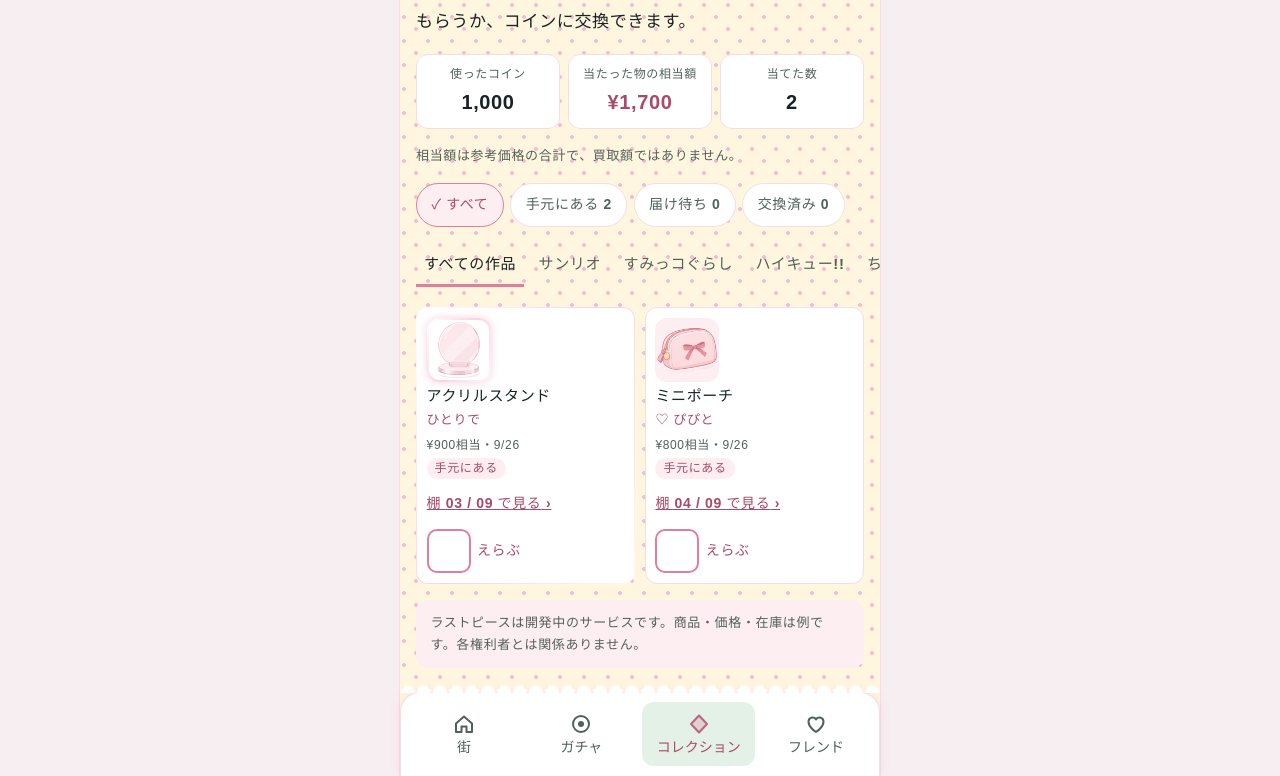
Test: 当てたものの計測（exchange / deliver） › 届けてもらうを確定すると deliver を 1 回、点数で送る
The width and height of the screenshot is (1280, 776).
(page scrolled)
Click the 2nd checkbox labelled "えらぶ" at (677, 551), box [655,529,699,573]
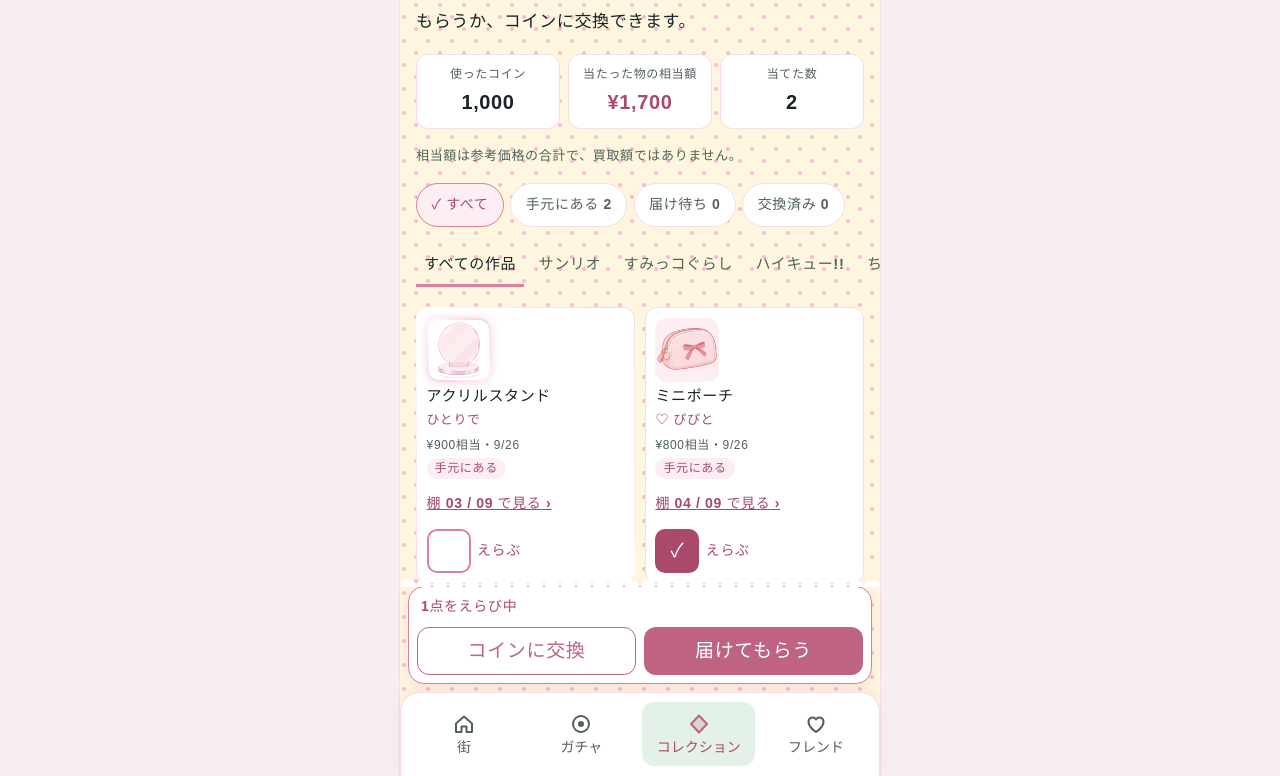
Click the button "届けてもらう" at (754, 651), box [644,627,863,675]
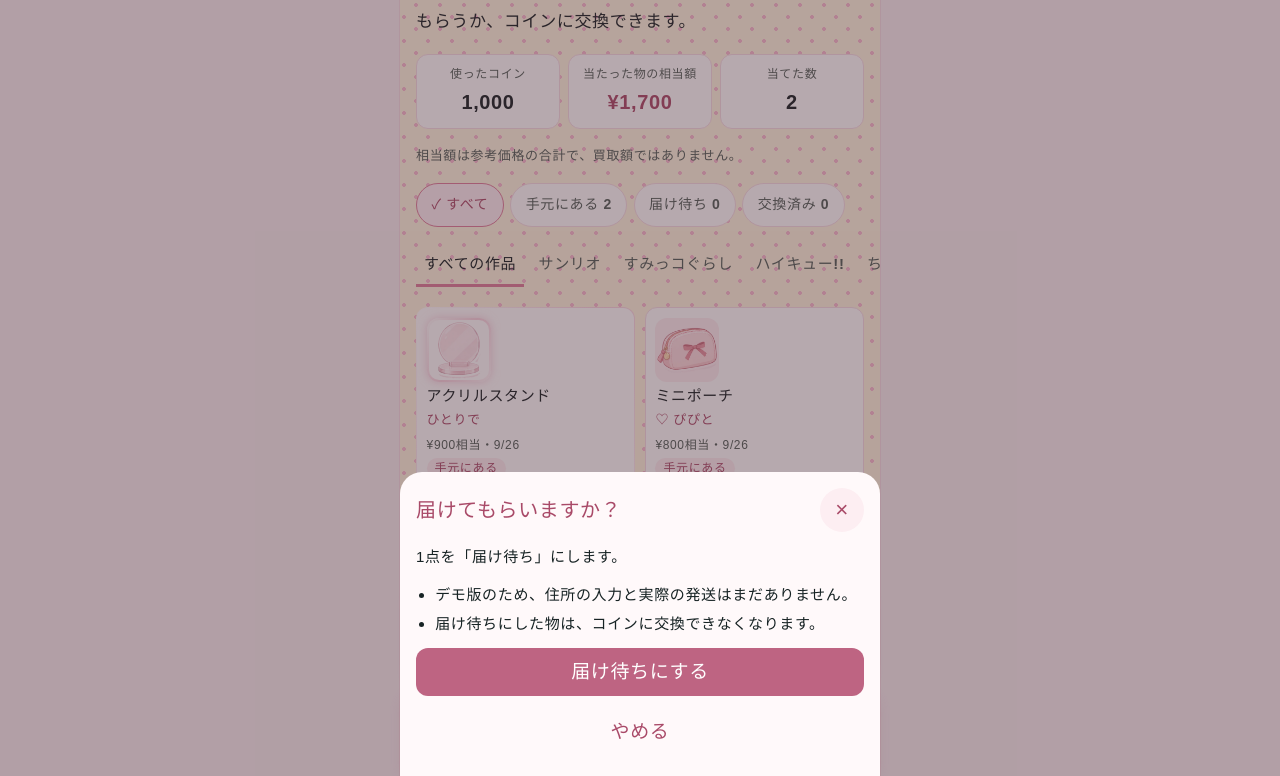
Click the button "届け待ちにする" at (640, 672), box [416,648,864,696]
(page scrolled)
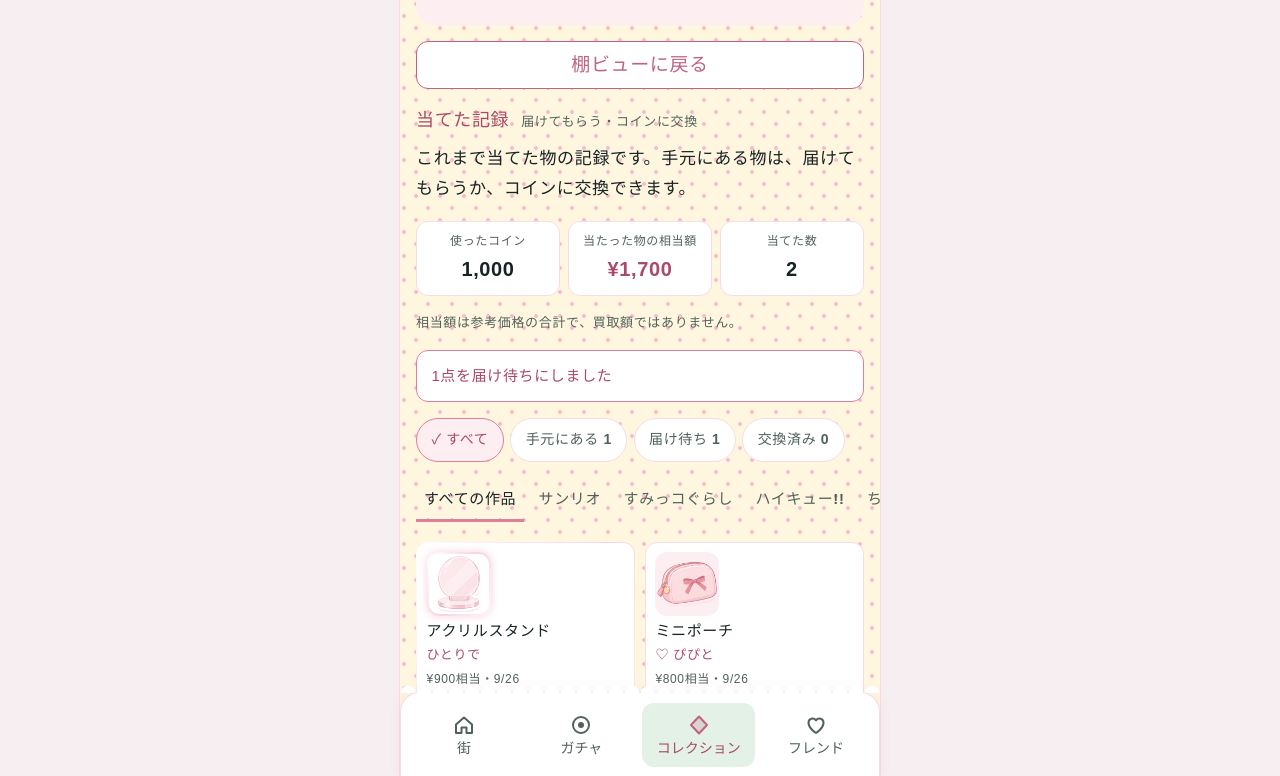
Expected: the message reads "1点を届け待ちにしました", [431,367,612,384]
